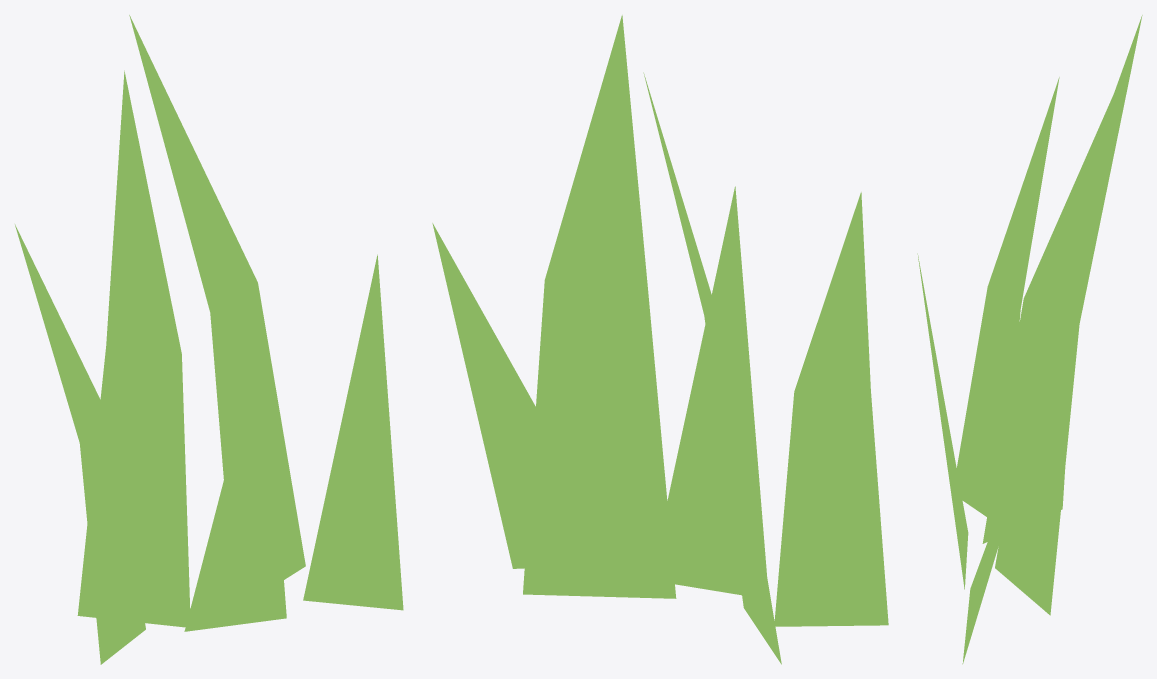
Rendered from Grass_a_TwoS_03.fbx.
The picture shows the model from 3 angles, left to right: view 1: azimuth 30°, elevation 25°; view 2: azimuth 150°, elevation 25°; view 3: azimuth 270°, elevation 25°; orthographic projection. The views are drawn at different scales.
Parts seen in each view (by area): view 1: Grass_a_TwoS_03; view 2: Grass_a_TwoS_03; view 3: Grass_a_TwoS_03.
Boxes of the visible parts, x1,y1,x2,y2 form: Grass_a_TwoS_03: (15, 15, 403, 664); Grass_a_TwoS_03: (432, 15, 888, 664); Grass_a_TwoS_03: (917, 15, 1142, 664).
Size of the model in its own units: 0.4208 by 0.6405 by 0.2322.
